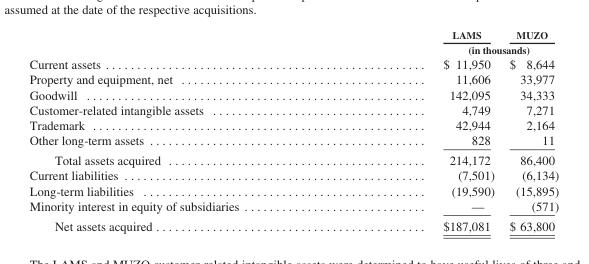table: (28, 28, 558, 232)
table column: (28, 28, 340, 232), (340, 28, 501, 232), (501, 28, 558, 232)
table column header: (28, 28, 558, 56)
table row: (28, 149, 558, 167), (28, 197, 558, 215), (28, 132, 558, 149), (28, 215, 558, 232), (28, 101, 558, 117), (28, 41, 558, 56), (28, 56, 558, 71), (28, 71, 558, 86), (28, 86, 558, 101), (28, 117, 558, 132), (28, 167, 558, 182), (28, 182, 558, 197), (28, 28, 558, 41)
table spanning cell: (340, 41, 558, 56)
